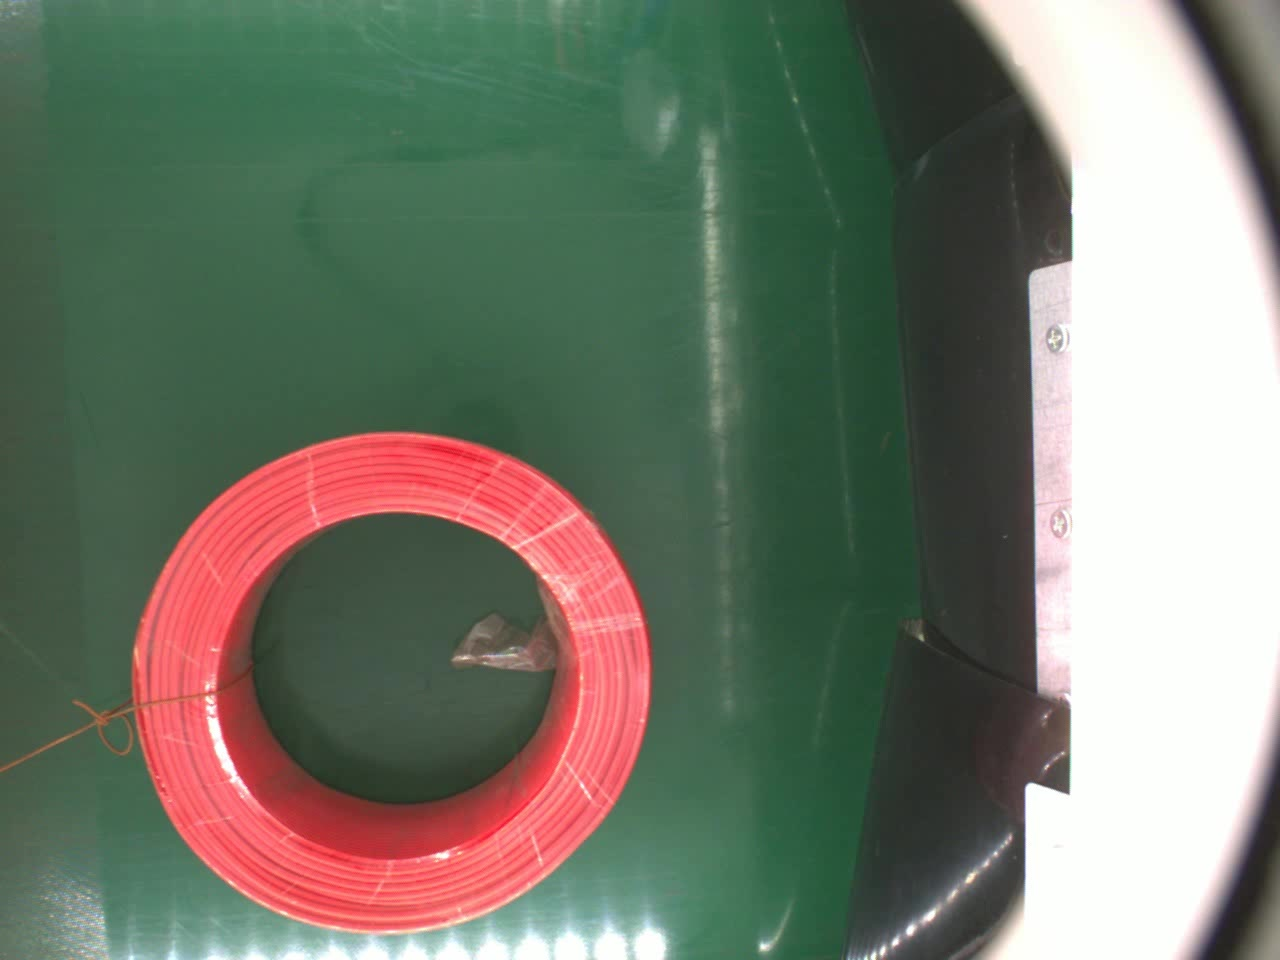red: (128, 430, 652, 939)
